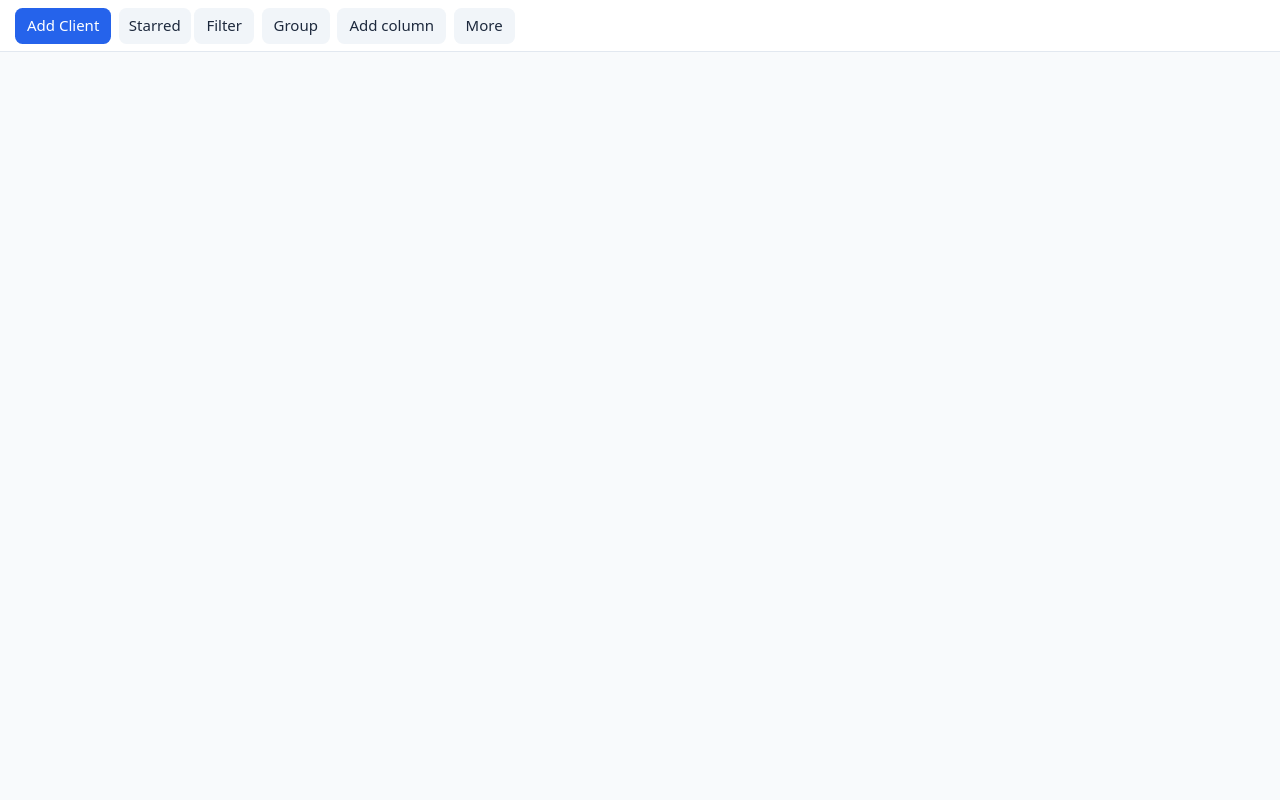
Test case: GridToolbar › the Add a column panel closes on Escape (AUDIT-044)
This screenshot has width=1280, height=800.
Click the button "Add column". click: (392, 26)
box: [337,8,446,44]
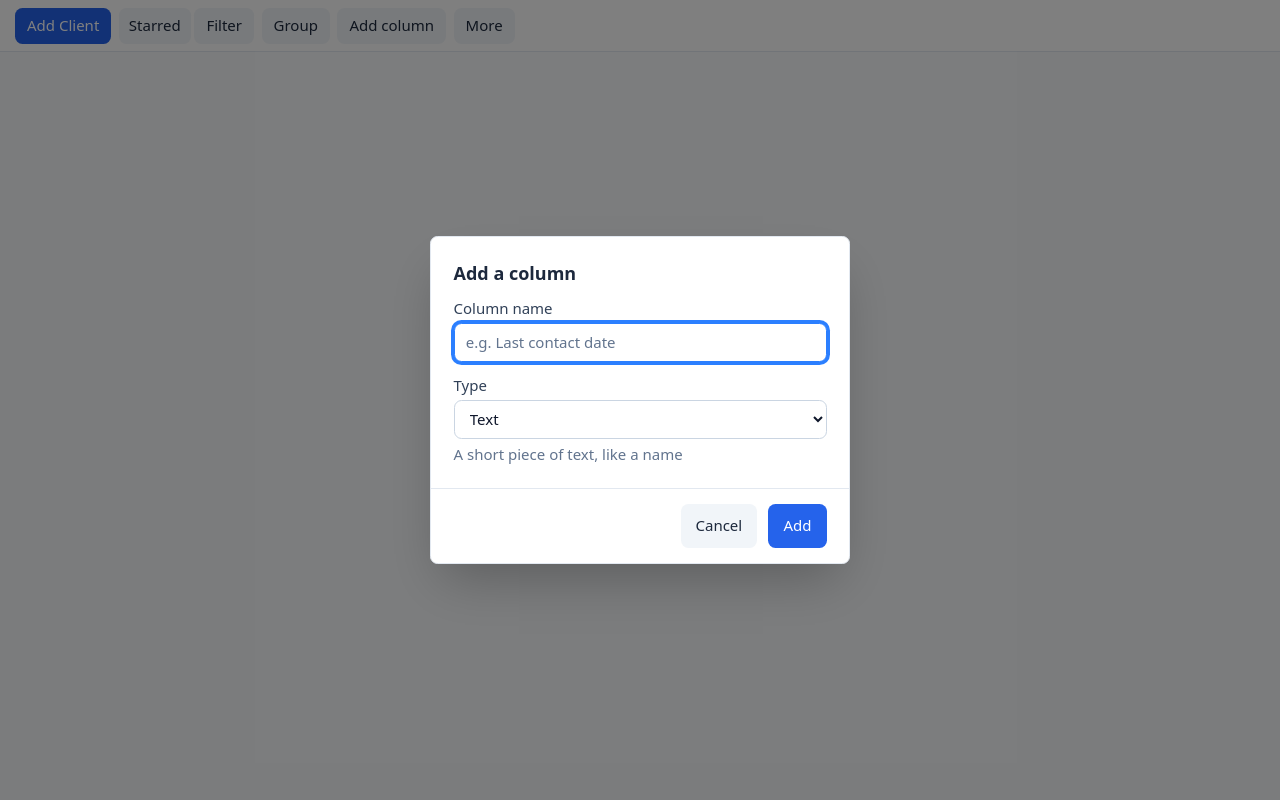
Press Escape in the field labelled "Column name", box [454,323,826,362]
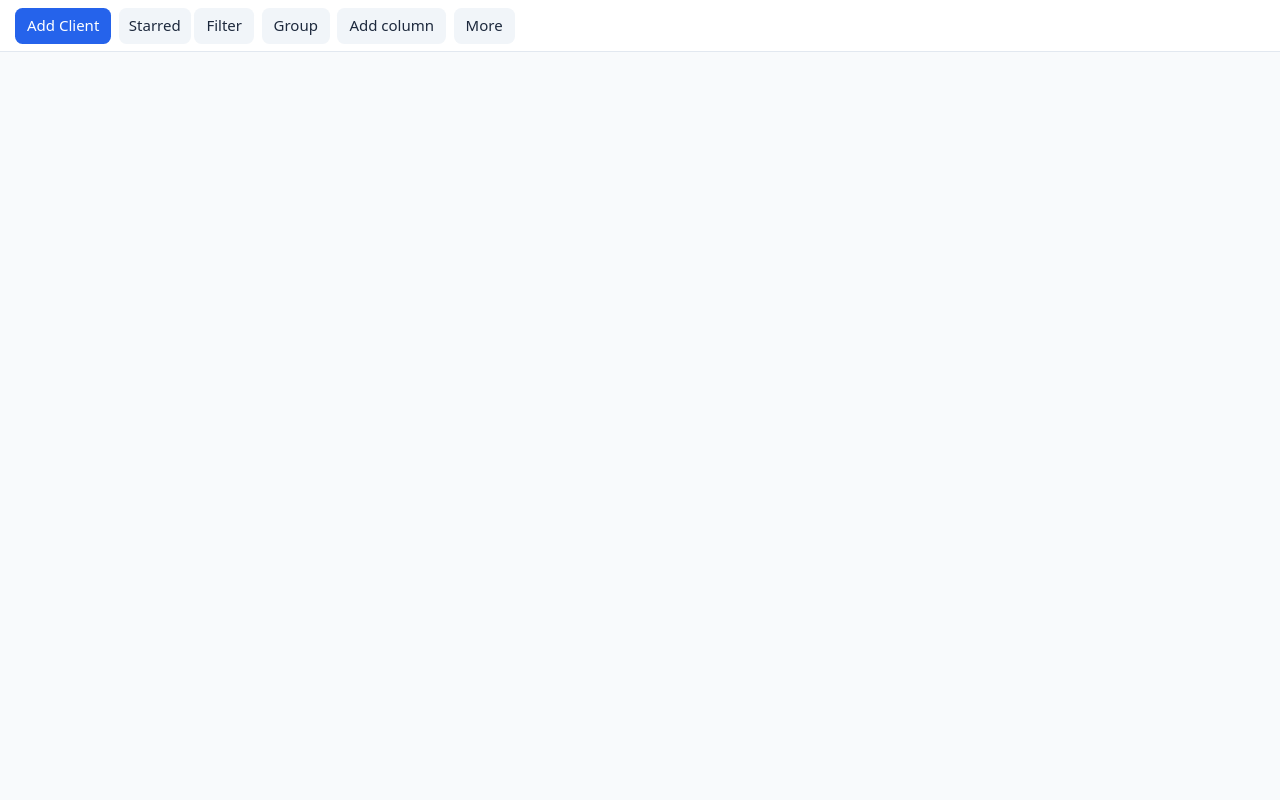
Now the label labelled "Column name" is gone
